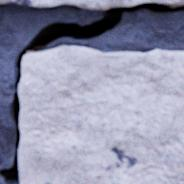brick: (19, 45, 183, 183), (0, 0, 183, 10)
crack: (0, 2, 183, 183)
